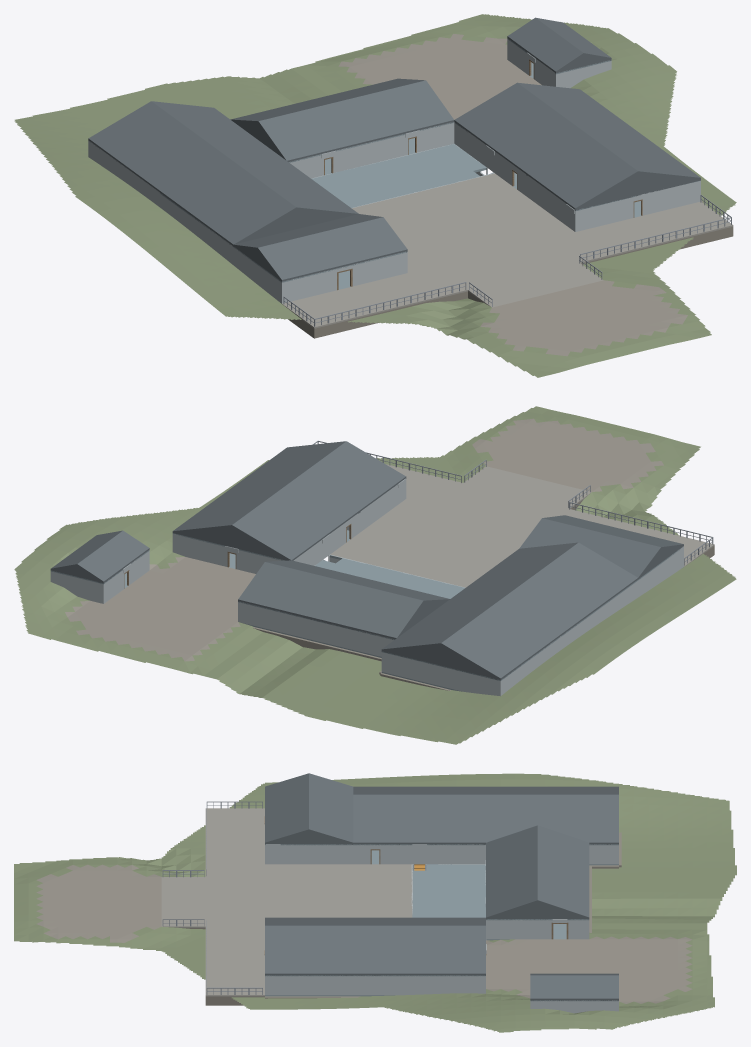
The model's file is clean-doorways.glb.
The picture shows the model from 3 angles, top to bottom: view 1: azimuth 30°, elevation 25°; view 2: azimuth 150°, elevation 25°; view 3: azimuth 270°, elevation 25°; orthographic projection. The views are drawn at different scales.
Parts seen in each view (by area): view 1: Saved editor geographic earthworks WLD-08, WLD-08 compound service forecourt structural surface region0, WLD-08 raised courtyard terrace structural surface region0, dormitory-and-mess roof west, radio-records roof south, laboratory roof west, generator-building roof west, Entrance rebuild Research courtyard structural deck region0, stores roof south, dormitory-and-mess roof east, laboratory roof east, generator-building roof east (+21 smaller); view 2: Saved editor geographic earthworks WLD-08, WLD-08 raised courtyard terrace structural surface region0, dormitory-and-mess roof west, radio-records roof north, WLD-08 compound service forecourt structural surface region0, generator-building roof west, laboratory roof west, dormitory-and-mess roof east, stores roof north, generator-building roof east, laboratory roof east, WLD-08 arrival apron structural surface region0 (+18 smaller); view 3: Saved editor geographic earthworks WLD-08, WLD-08 compound service forecourt structural surface region0, dormitory-and-mess roof east, WLD-08 raised courtyard terrace structural surface region0, laboratory roof east, generator-building roof east, radio-records roof north, radio-records roof south, Entrance rebuild Research courtyard structural deck region0, stores roof north, stores roof south, WLD-08 clean dorm E end (+13 smaller).
Part boxes in pixels (box(x1,y1,x2,y2)): Saved editor geographic earthworks WLD-08: box(14, 14, 736, 377); WLD-08 compound service forecourt structural surface region0: box(282, 201, 733, 328); WLD-08 raised courtyard terrace structural surface region0: box(352, 173, 574, 272); dormitory-and-mess roof west: box(454, 83, 637, 209); radio-records roof south: box(258, 80, 454, 161); laboratory roof west: box(161, 154, 296, 245); generator-building roof west: box(88, 101, 223, 192); Entrance rebuild Research courtyard structural deck region0: box(311, 144, 493, 207); stores roof south: box(257, 217, 407, 281); dormitory-and-mess roof east: box(517, 82, 700, 178); laboratory roof east: box(224, 154, 358, 214); generator-building roof east: box(152, 101, 286, 160); Saved editor geographic earthworks WLD-08: box(14, 406, 736, 744); WLD-08 raised courtyard terrace structural surface region0: box(330, 499, 532, 587); dormitory-and-mess roof west: box(232, 441, 406, 560); radio-records roof north: box(238, 562, 423, 639); WLD-08 compound service forecourt structural surface region0: box(385, 464, 714, 566); generator-building roof west: box(441, 593, 569, 679); laboratory roof west: box(510, 542, 638, 629); dormitory-and-mess roof east: box(172, 441, 345, 532); stores roof north: box(519, 518, 660, 578); generator-building roof east: box(381, 593, 508, 650); laboratory roof east: box(451, 542, 577, 598); WLD-08 arrival apron structural surface region0: box(463, 466, 591, 508); Saved editor geographic earthworks WLD-08: box(14, 773, 736, 1032); WLD-08 compound service forecourt structural surface region0: box(205, 808, 264, 996); dormitory-and-mess roof east: box(265, 925, 485, 974); WLD-08 raised courtyard terrace structural surface region0: box(265, 864, 412, 917); laboratory roof east: box(353, 794, 485, 844); generator-building roof east: box(486, 794, 618, 844); radio-records roof north: box(537, 825, 589, 918); radio-records roof south: box(486, 825, 537, 918); Entrance rebuild Research courtyard structural deck region0: box(412, 864, 485, 917); stores roof north: box(309, 773, 353, 843); stores roof south: box(265, 773, 308, 843); WLD-08 clean dorm E end: box(355, 975, 484, 995).
Size of the model in its own units: 83 by 9.24 by 98.
42 materials, 21 textured.
